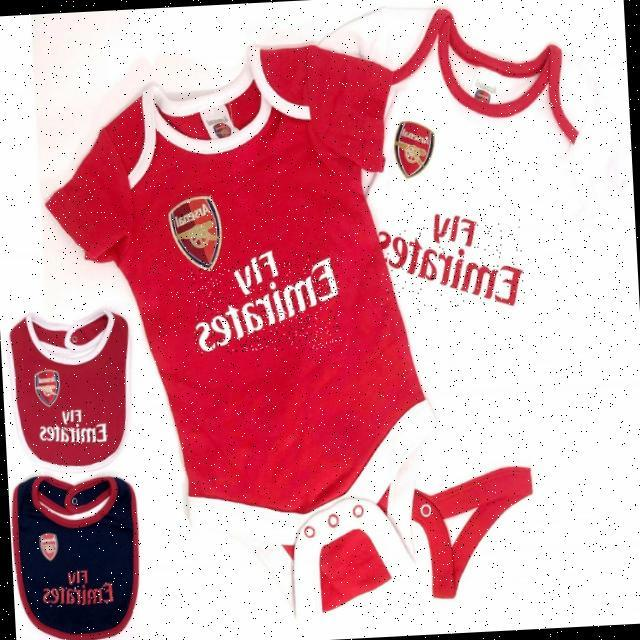Emirates: (191, 256, 343, 356), (377, 219, 526, 313), (43, 583, 115, 609), (39, 422, 108, 447)
